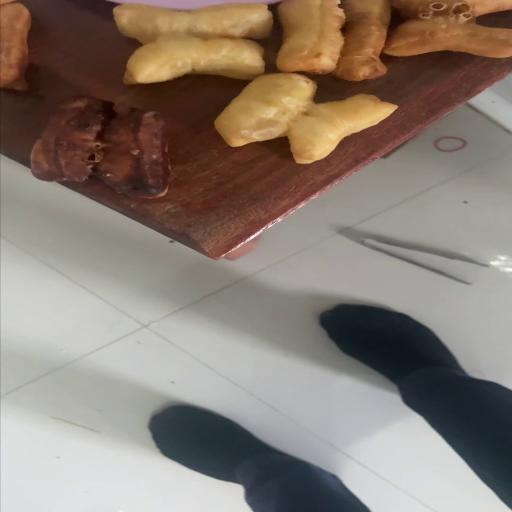street_burnt_defect: (30, 99, 166, 199)
street_golden_good: (116, 2, 396, 163)
